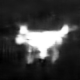plane: (12, 22, 80, 65)
